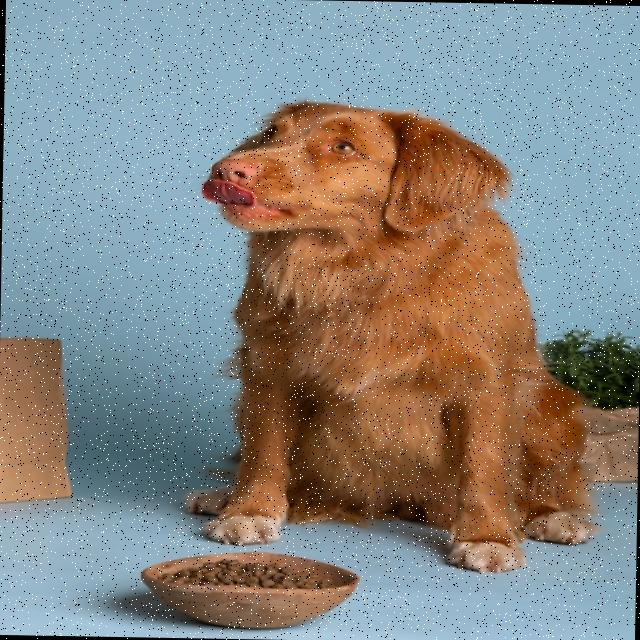Dog: (186, 98, 602, 572)
